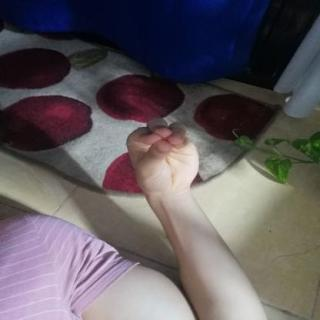HA: (114, 110, 209, 202)
